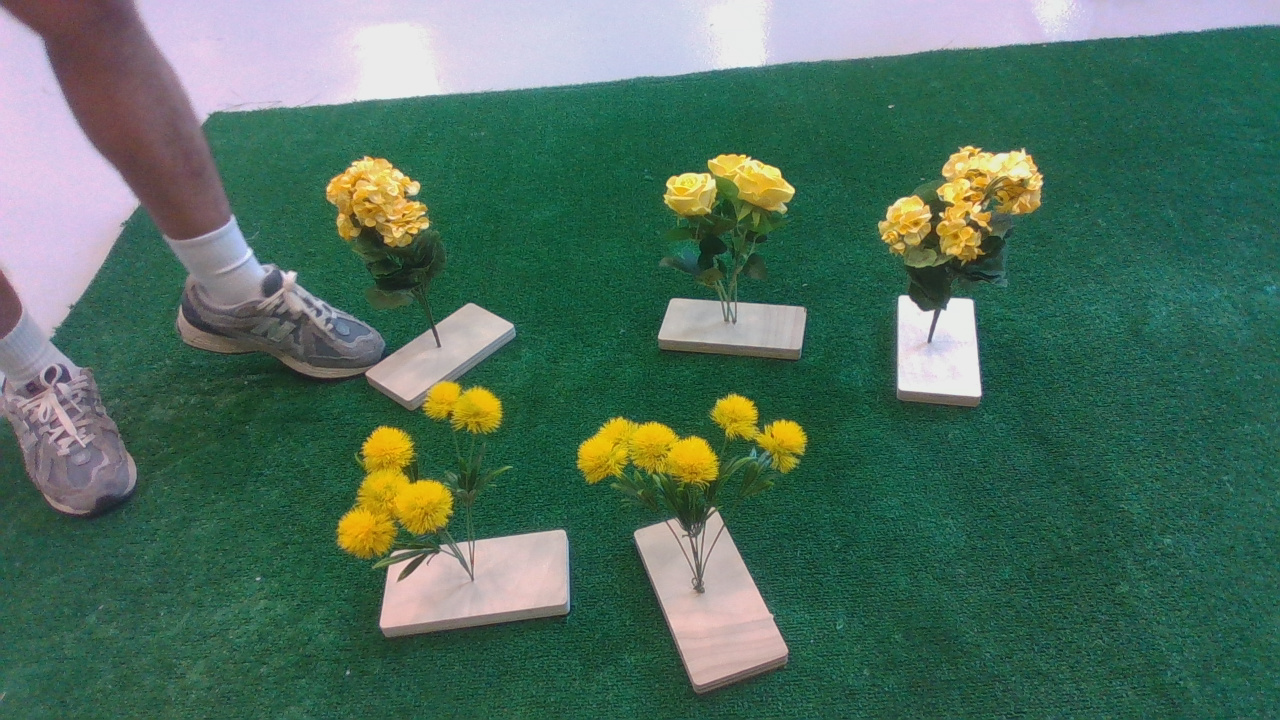dandelion: (554, 394, 835, 523), (342, 389, 525, 571)
geranium: (876, 141, 1054, 296), (322, 151, 470, 308)
rose: (655, 146, 807, 286)
